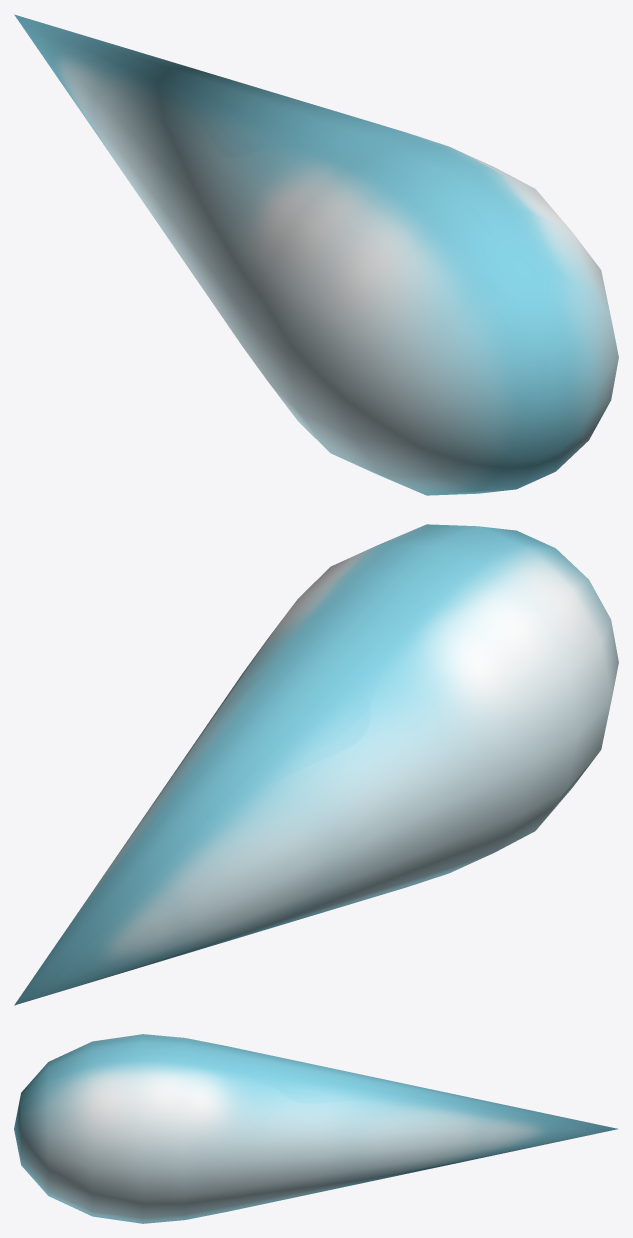
File: water_Bullet.fbx
3 renders of one model, top to bottom at view 1: azimuth 30°, elevation 25°; view 2: azimuth 150°, elevation 25°; view 3: azimuth 270°, elevation 25°, orthographic. The views are drawn at different scales.
Visible parts, largest first — view 1: Sphere001; view 2: Sphere001; view 3: Sphere001.
Part boxes in pixels (left/top/right/bottom): Sphere001: left=14, top=14, right=618, bottom=495; Sphere001: left=14, top=524, right=618, bottom=1005; Sphere001: left=14, top=1034, right=617, bottom=1223.
Size of the model in its own units: 0.1997 by 0.1997 by 0.6359.
1 material, 1 textured.
